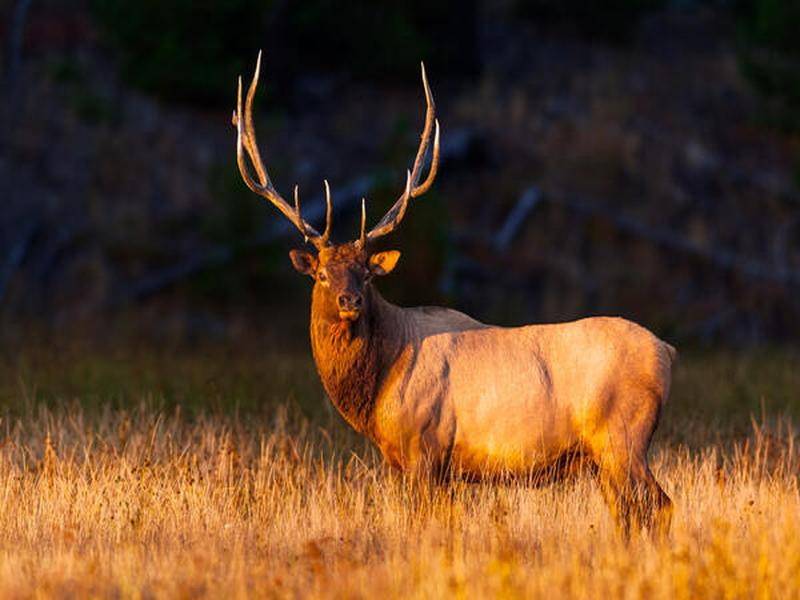elk: (227, 79, 682, 566)
